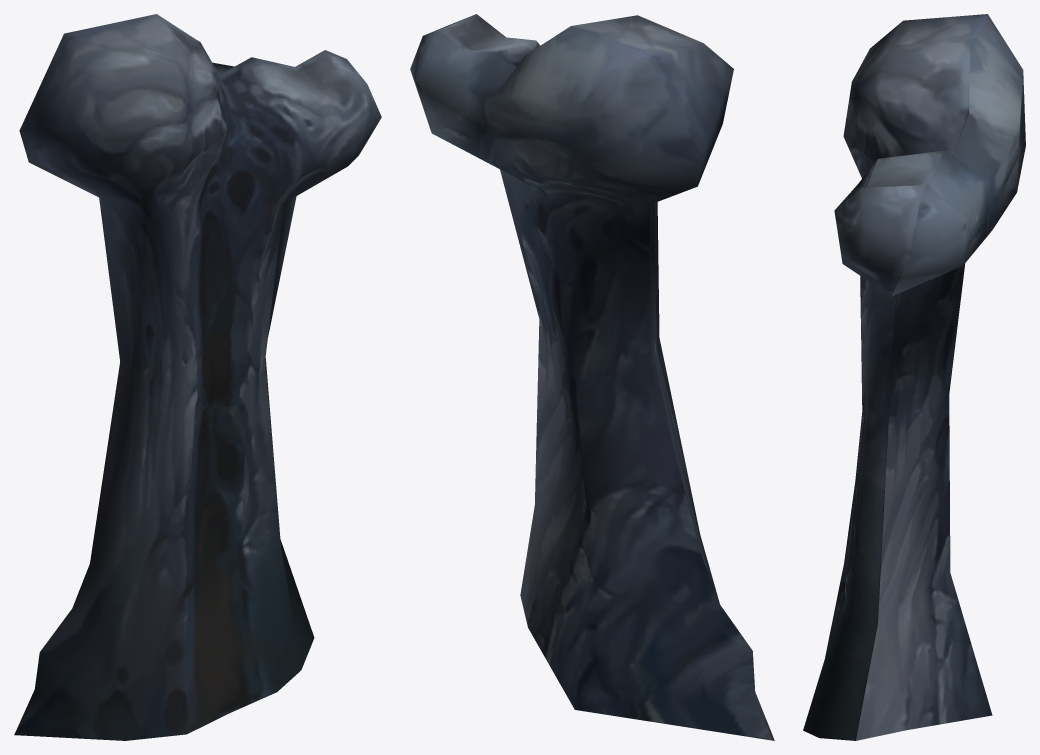
The model's file is fb_csd_zj_14_c.FBX.
3 views of the same model, side by side, from view 1: azimuth 30°, elevation 25°; view 2: azimuth 150°, elevation 25°; view 3: azimuth 270°, elevation 25° (orthographic). The views are drawn at different scales.
Parts seen in each view (by area): view 1: fb_csd_zj_14_b; view 2: fb_csd_zj_14_b; view 3: fb_csd_zj_14_b.
Part boxes in pixels (bbox=[...]): fb_csd_zj_14_b: bbox=[14, 14, 381, 740]; fb_csd_zj_14_b: bbox=[410, 14, 774, 740]; fb_csd_zj_14_b: bbox=[803, 14, 1025, 740].
Size of the model in its own units: 249 by 448 by 131.
1 material, 1 textured.
